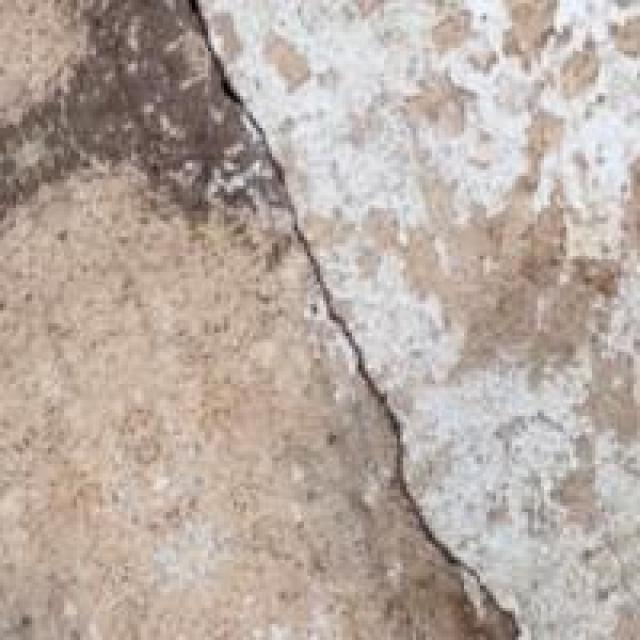Crack: (118, 0, 572, 598)
